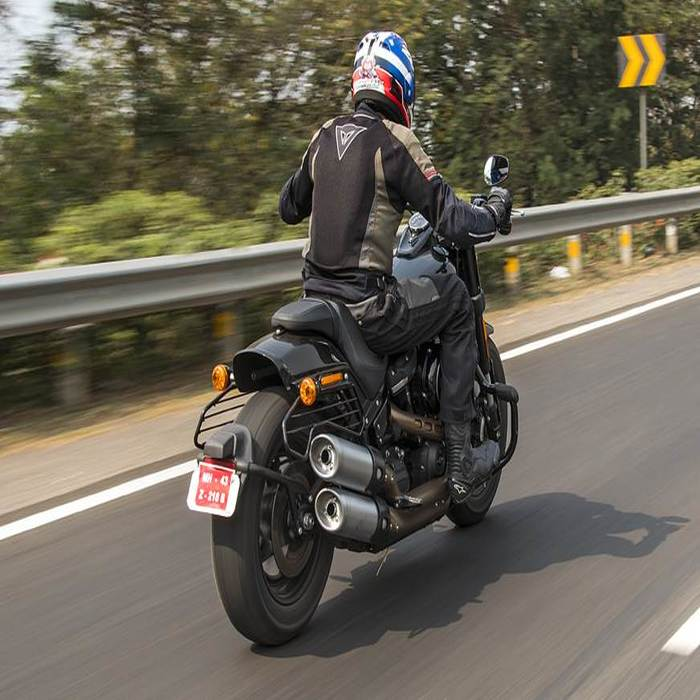h: (349, 28, 416, 131)
n: (185, 460, 239, 520)
